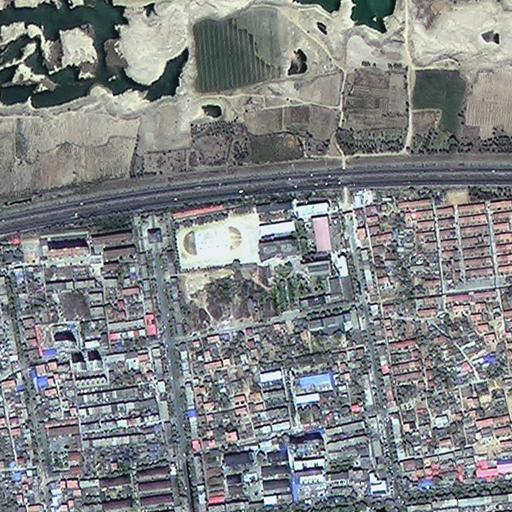school: (171, 195, 338, 271)
